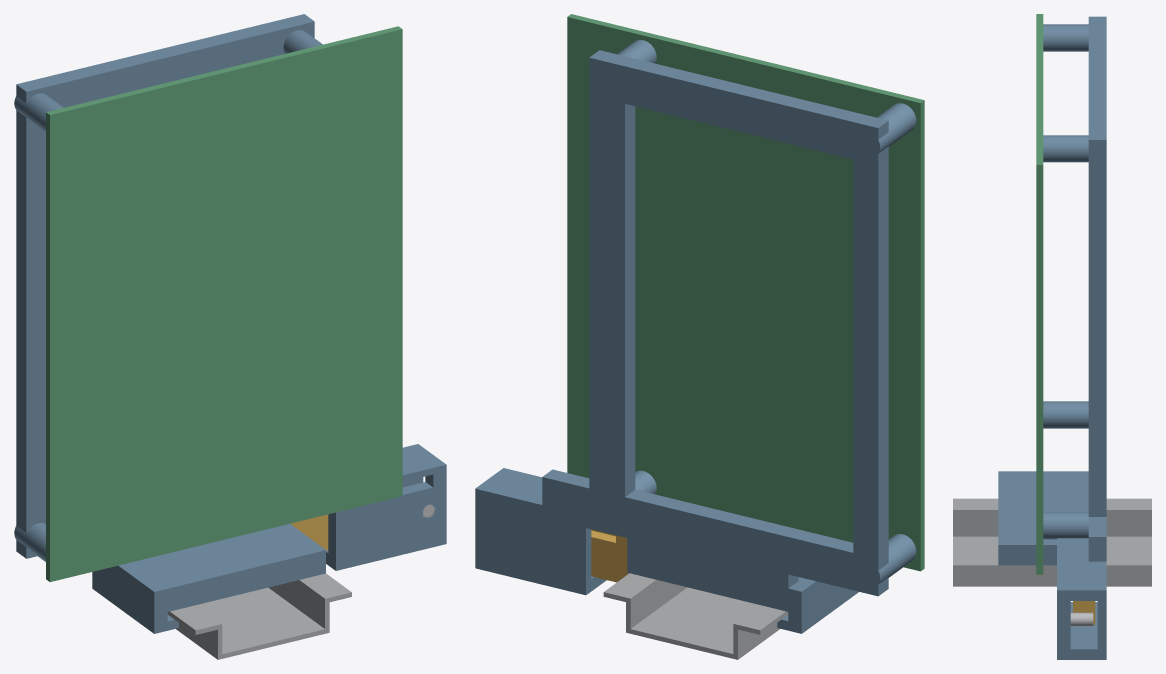
File: assembly.glb
The picture shows the model from 3 angles, left to right: view 1: azimuth 30°, elevation 25°; view 2: azimuth 150°, elevation 25°; view 3: azimuth 270°, elevation 25°; orthographic projection. The views are drawn at different scales.
Parts seen in each view (by area): view 1: PCB-envelope-reference, bracket, DIN-rail-reference, separate-slider; view 2: PCB-envelope-reference, bracket, DIN-rail-reference, separate-slider; view 3: bracket, DIN-rail-reference, PCB-envelope-reference, M3-stop-screw-shaft-reference, separate-slider.
Boxes of the visible parts, x1,y1,x2,y2 form: PCB-envelope-reference: (46, 26, 402, 581); bracket: (14, 14, 446, 633); DIN-rail-reference: (167, 573, 351, 659); separate-slider: (290, 514, 328, 550); PCB-envelope-reference: (567, 14, 924, 571); bracket: (475, 40, 916, 633); DIN-rail-reference: (603, 573, 788, 659); separate-slider: (591, 529, 628, 582); bracket: (998, 16, 1106, 659); DIN-rail-reference: (953, 498, 1151, 586); PCB-envelope-reference: (1036, 14, 1043, 574); M3-stop-screw-shaft-reference: (1070, 612, 1093, 626); separate-slider: (1073, 601, 1095, 624).
Size of the model in its own units: 0.0915 by 0.1155 by 0.044.
